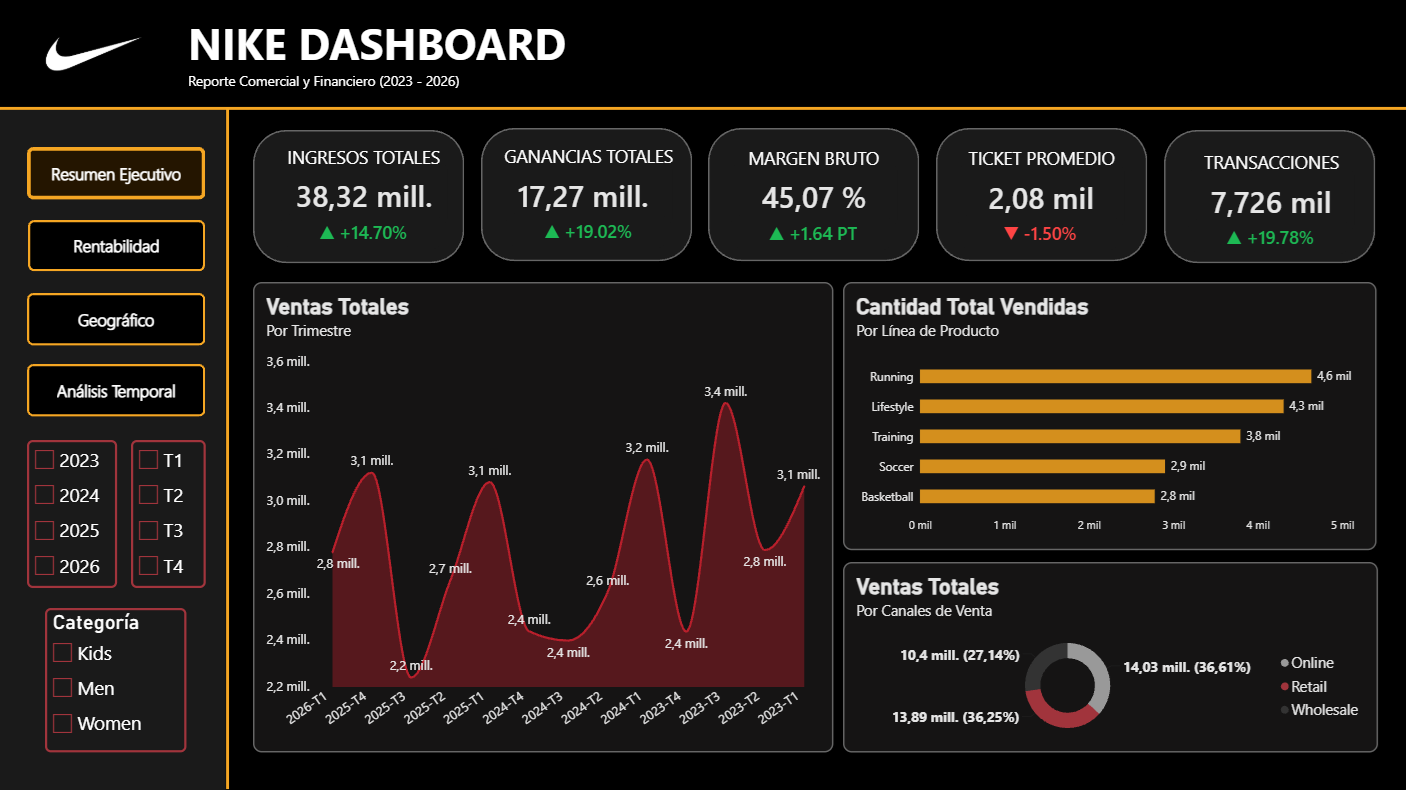

This screenshot's page, from the dashboard's own definition file:
{"tool":"powerbi","page":{"name":"Resumen General","canvas":[1920,1080],"ordinal":0},"visuals":[{"type":"shape","box":[1588.3,178.3,288.3,181.7],"z":0},{"type":"shape","box":[1277.5,176.7,288.3,181.7],"z":1000},{"type":"shape","box":[966.7,176.7,288.3,181.7],"z":2000},{"type":"shape","box":[655.8,176.7,288.3,181.7],"z":3000},{"type":"shape","box":[0,0,1920,150],"z":4000},{"type":"shape","box":[0,143,1920,12],"z":5000},{"type":"image","box":[0,11.7,256.7,125],"z":6000},{"type":"textbox","box":[256.7,20,641.7,108.3],"z":7000},{"type":"shape","box":[0,152,308,928],"z":8000},{"type":"shape","box":[303.8,147.5,12.5,931.2],"z":9000},{"type":"lineChart","title":"Ventas Totales","fields":{"Category":["Dim_Tiempo.AñoTrimestre"],"Y":["Medidas.Ingresos_Totales"]},"box":[345,386.7,791.7,641.7],"z":10000},{"type":"clusteredBarChart","title":"Cantidad Total Vendidas","fields":{"Category":["Dim_Producto.Product_Line"],"Y":["Medidas.Unidades_Vendidas"]},"box":[1150,386,728,366],"z":11000},{"type":"donutChart","title":"Ventas Totales","fields":{"Category":["Dim_Cliente.Sales_Channel"],"Y":["Medidas.Ingresos_Totales"]},"box":[1150,768,730,260],"z":12000},{"type":"shape","box":[345,178.3,288.3,181.7],"z":13000},{"type":"cardVisual","fields":{"Data":["Medidas.Ingresos_Totales"]},"box":[382.9,225.3,227.5,82.5],"z":14000},{"type":"textbox","box":[371.2,198.8,250,36],"z":15000},{"type":"cardVisual","fields":{"Data":["Medidas.Variacion_Ingresos_Texto"]},"box":[389.8,293,210,47.5],"z":16000},{"type":"cardVisual","fields":{"Data":["Medidas.Ganancia_Total"]},"box":[690.1,224.9,227.5,82.5],"z":17000},{"type":"textbox","box":[678.4,198.4,250,36],"z":18000},{"type":"cardVisual","fields":{"Data":["Medidas.Variacion_Ganancias_Texto"]},"box":[696.9,292.6,210,47.5],"z":19000},{"type":"cardVisual","fields":{"Data":["Medidas.Ganancia_bruta"]},"box":[997.3,226.5,227.5,82.5],"z":20000},{"type":"textbox","box":[985.6,200,250,36],"z":21000},{"type":"cardVisual","fields":{"Data":["Medidas.Variacion_GananciaBruta_Texto"]},"box":[1004.1,294.2,210,47.5],"z":22000},{"type":"cardVisual","fields":{"Data":["Medidas.Ticket_promedio"]},"box":[1307.4,227.7,227.5,82.5],"z":23000},{"type":"textbox","box":[1295.7,201.2,250,36],"z":24000},{"type":"cardVisual","fields":{"Data":["Medidas.Variacion_TICKETPRO_Texto"]},"box":[1314.3,295.4,210,47.5],"z":25000},{"type":"cardVisual","fields":{"Data":["Medidas.#Transacciones"]},"box":[1621.6,233.1,227.5,82.5],"z":26000},{"type":"textbox","box":[1609.9,206.6,250,36],"z":27000},{"type":"cardVisual","fields":{"Data":["Medidas.Variacion_Transacciones_Texto"]},"box":[1628.4,300.8,210,47.5],"z":28000},{"type":"shape","box":[36.7,201.7,243.3,71.7],"z":29000},{"type":"shape","box":[38.3,301.7,241.7,70],"z":30000},{"type":"shape","box":[36.7,401.7,243.3,71.7],"z":31000},{"type":"shape","box":[36.7,498.3,243.3,71.7],"z":32000},{"type":"slicer","fields":{"Values":["Dim_Tiempo.Fecha.Variación.Jerarquía de fechas.Año"]},"box":[36.7,601.7,123.3,201.7],"z":33000},{"type":"slicer","fields":{"Values":["Dim_Tiempo.Trimestre"]},"box":[178.3,601.7,101.7,201.7],"z":34000},{"type":"slicer","fields":{"Values":["Dim_Producto.Gender_Category"]},"box":[61.7,831.7,193.3,196.7],"z":35000}]}

Visuals, with their boxes in screenshot pixels (x1, y1, x2, y2), scaled from the page's 1920x1080 canvas onto the 1406x790 screenshot:
shape: pyautogui.locateOnScreen(1163, 130, 1374, 263)
shape: pyautogui.locateOnScreen(936, 129, 1147, 262)
shape: pyautogui.locateOnScreen(708, 129, 919, 262)
shape: pyautogui.locateOnScreen(480, 129, 691, 262)
shape: pyautogui.locateOnScreen(0, 0, 1405, 110)
shape: pyautogui.locateOnScreen(0, 105, 1405, 113)
image: pyautogui.locateOnScreen(0, 9, 188, 100)
textbox: pyautogui.locateOnScreen(188, 15, 658, 94)
shape: pyautogui.locateOnScreen(0, 111, 226, 789)
shape: pyautogui.locateOnScreen(222, 108, 232, 789)
"Ventas Totales" lineChart: pyautogui.locateOnScreen(253, 283, 832, 752)
"Cantidad Total Vendidas" clusteredBarChart: pyautogui.locateOnScreen(842, 282, 1375, 550)
"Ventas Totales" donutChart: pyautogui.locateOnScreen(842, 562, 1377, 752)
shape: pyautogui.locateOnScreen(253, 130, 464, 263)
cardVisual - Medidas.Ingresos_Totales: pyautogui.locateOnScreen(280, 165, 447, 225)
textbox: pyautogui.locateOnScreen(272, 145, 455, 172)
cardVisual - Medidas.Variacion_Ingresos_Texto: pyautogui.locateOnScreen(285, 214, 439, 249)
cardVisual - Medidas.Ganancia_Total: pyautogui.locateOnScreen(505, 165, 672, 225)
textbox: pyautogui.locateOnScreen(497, 145, 680, 171)
cardVisual - Medidas.Variacion_Ganancias_Texto: pyautogui.locateOnScreen(510, 214, 664, 249)
cardVisual - Medidas.Ganancia_bruta: pyautogui.locateOnScreen(730, 166, 897, 226)
textbox: pyautogui.locateOnScreen(722, 146, 905, 173)
cardVisual - Medidas.Variacion_GananciaBruta_Texto: pyautogui.locateOnScreen(735, 215, 889, 250)
cardVisual - Medidas.Ticket_promedio: pyautogui.locateOnScreen(957, 167, 1124, 227)
textbox: pyautogui.locateOnScreen(949, 147, 1132, 174)
cardVisual - Medidas.Variacion_TICKETPRO_Texto: pyautogui.locateOnScreen(962, 216, 1116, 251)
cardVisual - Medidas.#Transacciones: pyautogui.locateOnScreen(1187, 171, 1354, 231)
textbox: pyautogui.locateOnScreen(1179, 151, 1362, 177)
cardVisual - Medidas.Variacion_Transacciones_Texto: pyautogui.locateOnScreen(1192, 220, 1346, 255)
shape: pyautogui.locateOnScreen(27, 148, 205, 200)
shape: pyautogui.locateOnScreen(28, 221, 205, 272)
shape: pyautogui.locateOnScreen(27, 294, 205, 346)
shape: pyautogui.locateOnScreen(27, 364, 205, 417)
slicer - Dim_Tiempo.Fecha.Variación.Jerarquía de fechas.Año: pyautogui.locateOnScreen(27, 440, 117, 588)
slicer - Dim_Tiempo.Trimestre: pyautogui.locateOnScreen(131, 440, 205, 588)
slicer - Dim_Producto.Gender_Category: pyautogui.locateOnScreen(45, 608, 187, 752)
